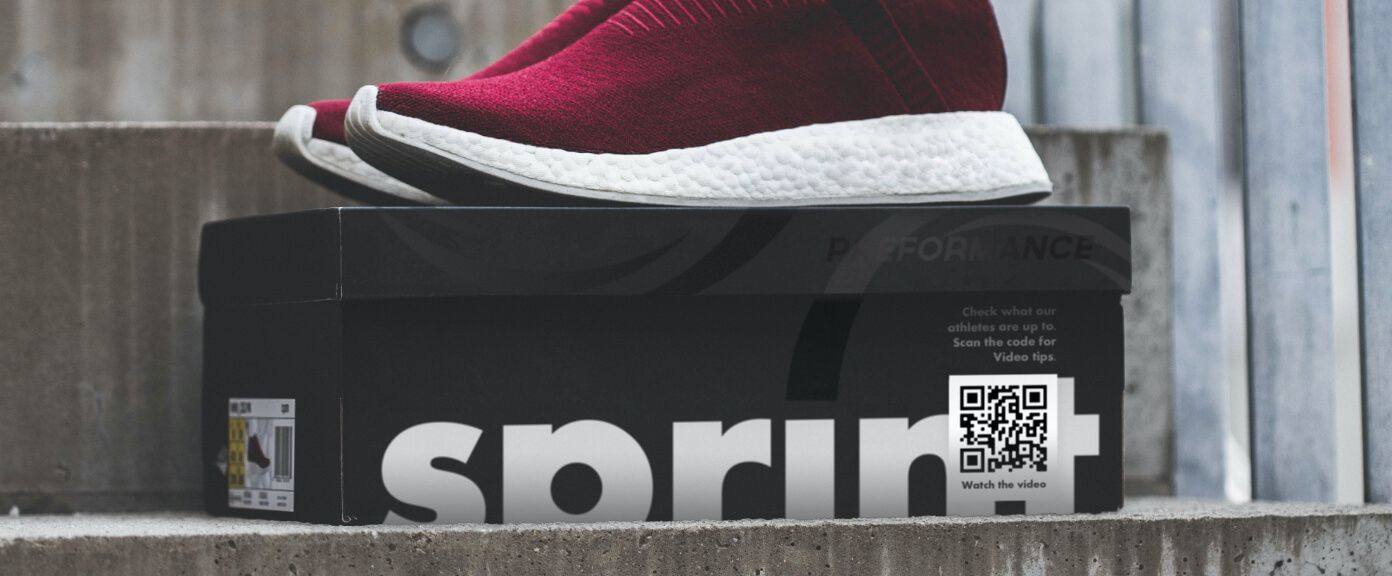qr_code: (954, 382, 1059, 477)
